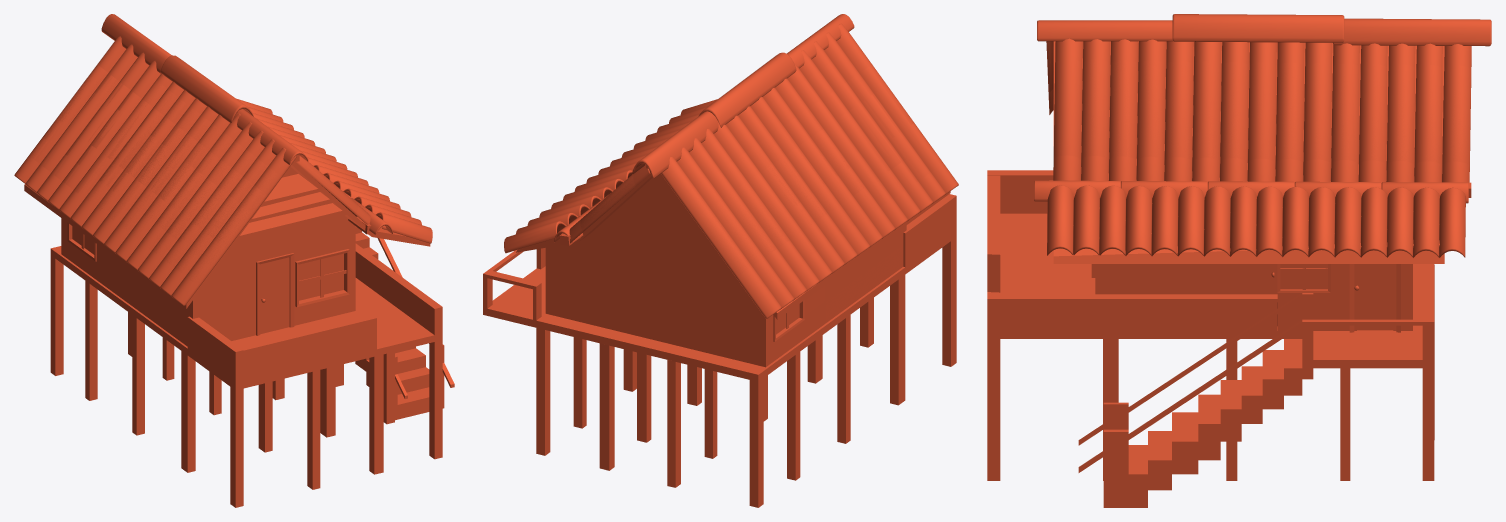
File: CasaDoJuModelounto.fbx
3 views of the same model, side by side, from view 1: azimuth 30°, elevation 25°; view 2: azimuth 150°, elevation 25°; view 3: azimuth 270°, elevation 25° (orthographic). The views are drawn at different scales.
Parts seen in each view (by area): view 1: Cilindro.003; view 2: Cilindro.003; view 3: Cilindro.003.
Part boxes in pixels (x1,y1,x2,y2): Cilindro.003: (14, 14, 454, 507); Cilindro.003: (483, 14, 958, 507); Cilindro.003: (987, 14, 1491, 507).
Bounding box in the file's own units: 932 × 1008 × 1168.
